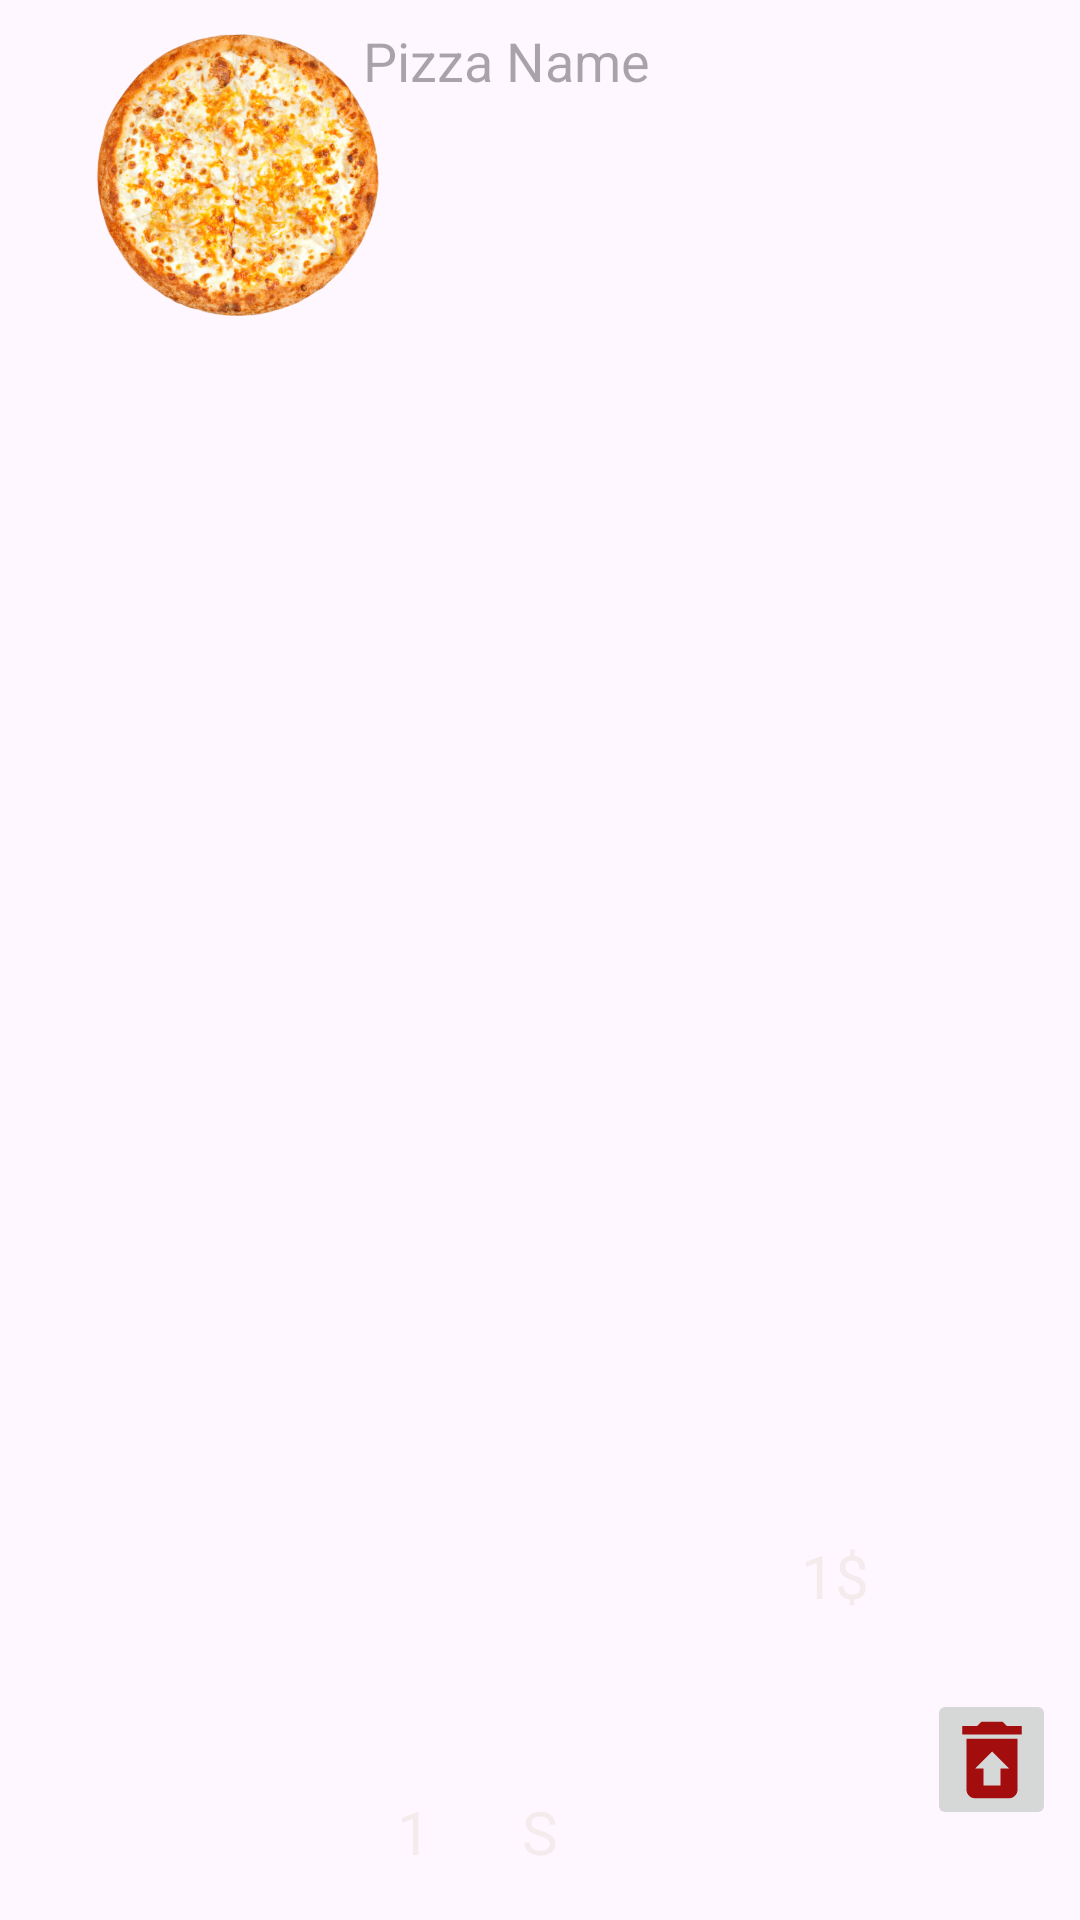

Named icons in this screenshot (1080w x 1920h) and their bounding boxes, BBox(x1, y1, x2, y2):
margarita: BBox(97, 34, 434, 316)
restore from trash: BBox(939, 1707, 1044, 1812)
